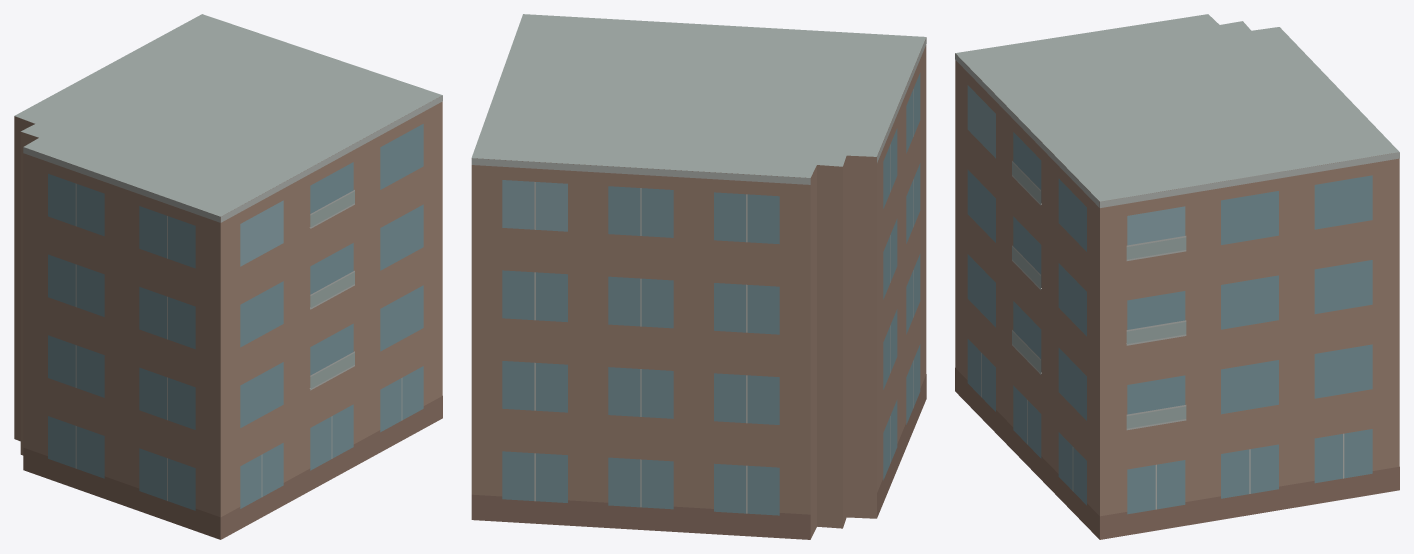
The model's file is survey-upis-32848826.glb.
3 views of the same model, side by side, from view 1: azimuth 30°, elevation 25°; view 2: azimuth 150°, elevation 25°; view 3: azimuth 270°, elevation 25° (orthographic). The views are drawn at different scales.
Visible parts, largest first — view 1: survey-upis-32848826.tmp; view 2: survey-upis-32848826.tmp; view 3: survey-upis-32848826.tmp.
Boxes of the visible parts, bbox=[...] form: survey-upis-32848826.tmp: bbox=[14, 14, 442, 539]; survey-upis-32848826.tmp: bbox=[471, 14, 926, 539]; survey-upis-32848826.tmp: bbox=[955, 14, 1399, 539].
Size of the model in its own units: 15.25 by 12.8 by 15.26.
